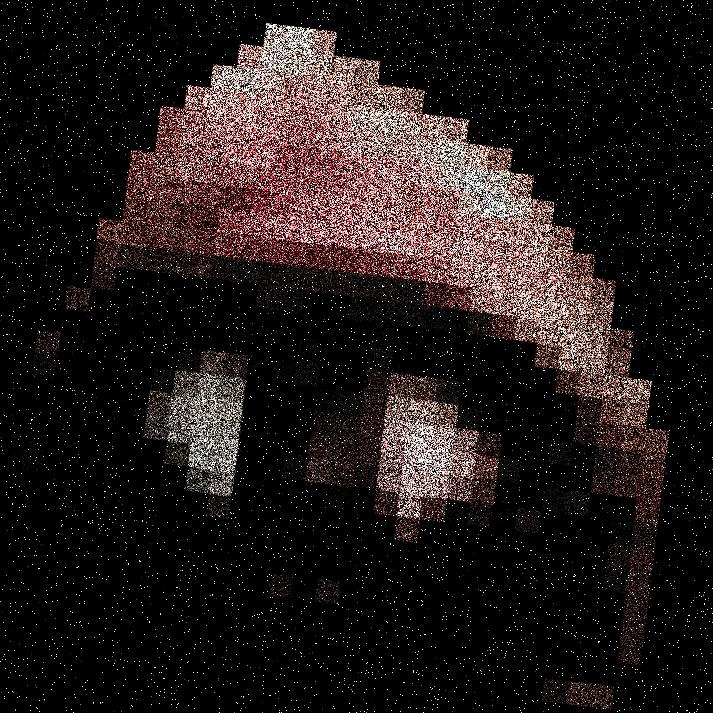Capacete: (129, 0, 496, 712)
